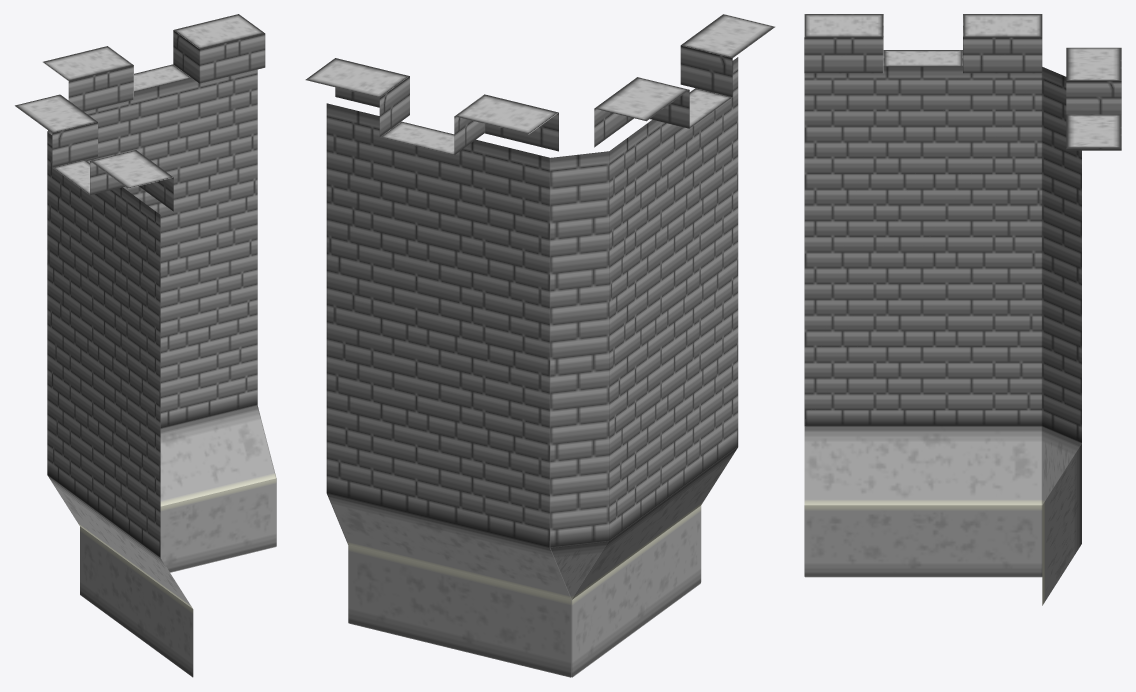
The model's file is Castle_Wall_1_L_Corner.fbx.
The picture shows the model from 3 angles, left to right: view 1: azimuth 30°, elevation 25°; view 2: azimuth 150°, elevation 25°; view 3: azimuth 270°, elevation 25°; orthographic projection. The views are drawn at different scales.
Visible parts, largest first — view 1: Castle_Wall_1; view 2: Castle_Wall_1; view 3: Castle_Wall_1.
Boxes of the visible parts, x1,y1,x2,y2 form: Castle_Wall_1: (15,14,276,677); Castle_Wall_1: (305,14,775,677); Castle_Wall_1: (804,14,1121,605).
Size of the model in its own units: 800 by 1473 by 800.
1 material, 1 textured.
